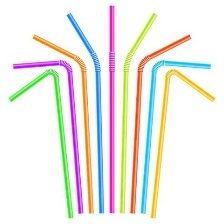drinking_straw: (5, 65, 78, 221), (147, 64, 220, 220), (117, 8, 160, 214), (63, 8, 104, 216), (106, 2, 119, 214)
